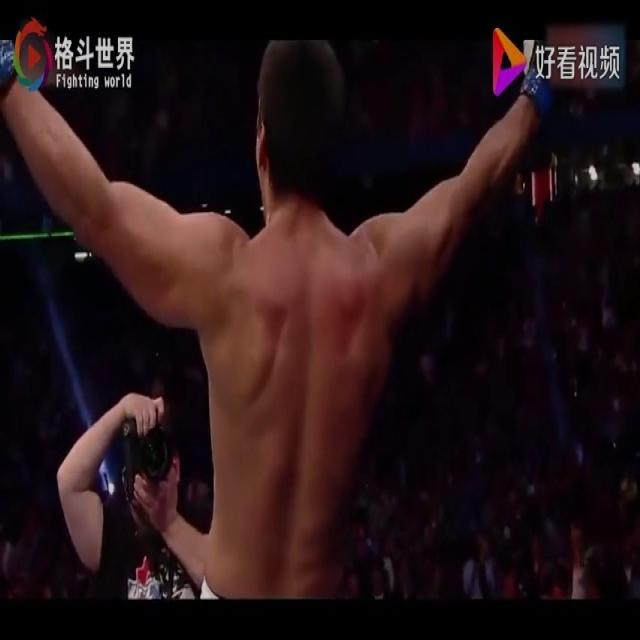non-fight: (0, 33, 638, 606)
